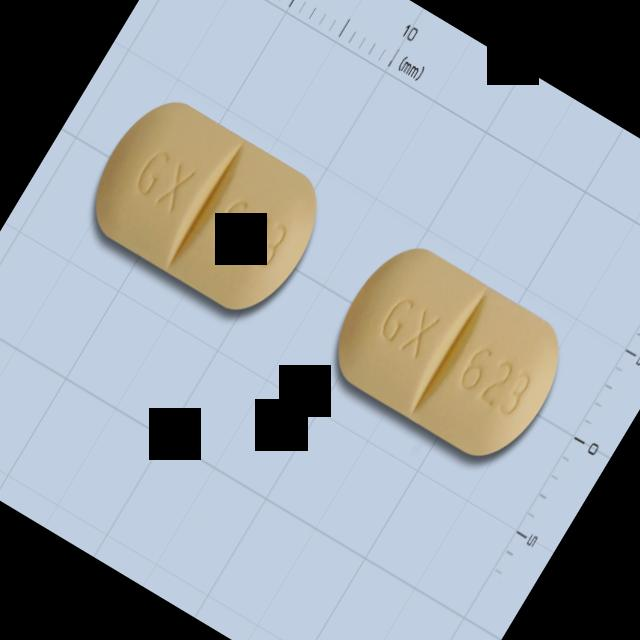Ziagen Tab: (72, 83, 340, 331), (314, 230, 582, 477)
